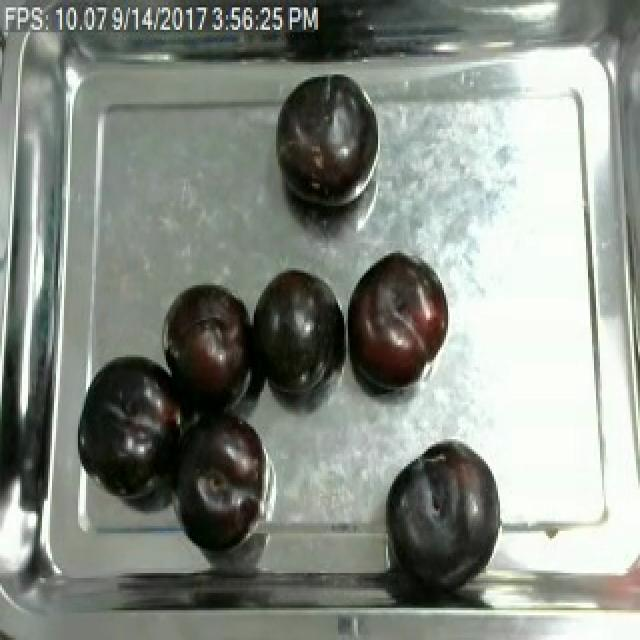Fruit: (380, 436, 506, 586), (342, 248, 454, 399), (72, 349, 186, 494), (170, 404, 274, 556), (270, 70, 378, 208), (160, 280, 258, 410), (244, 263, 338, 397)
